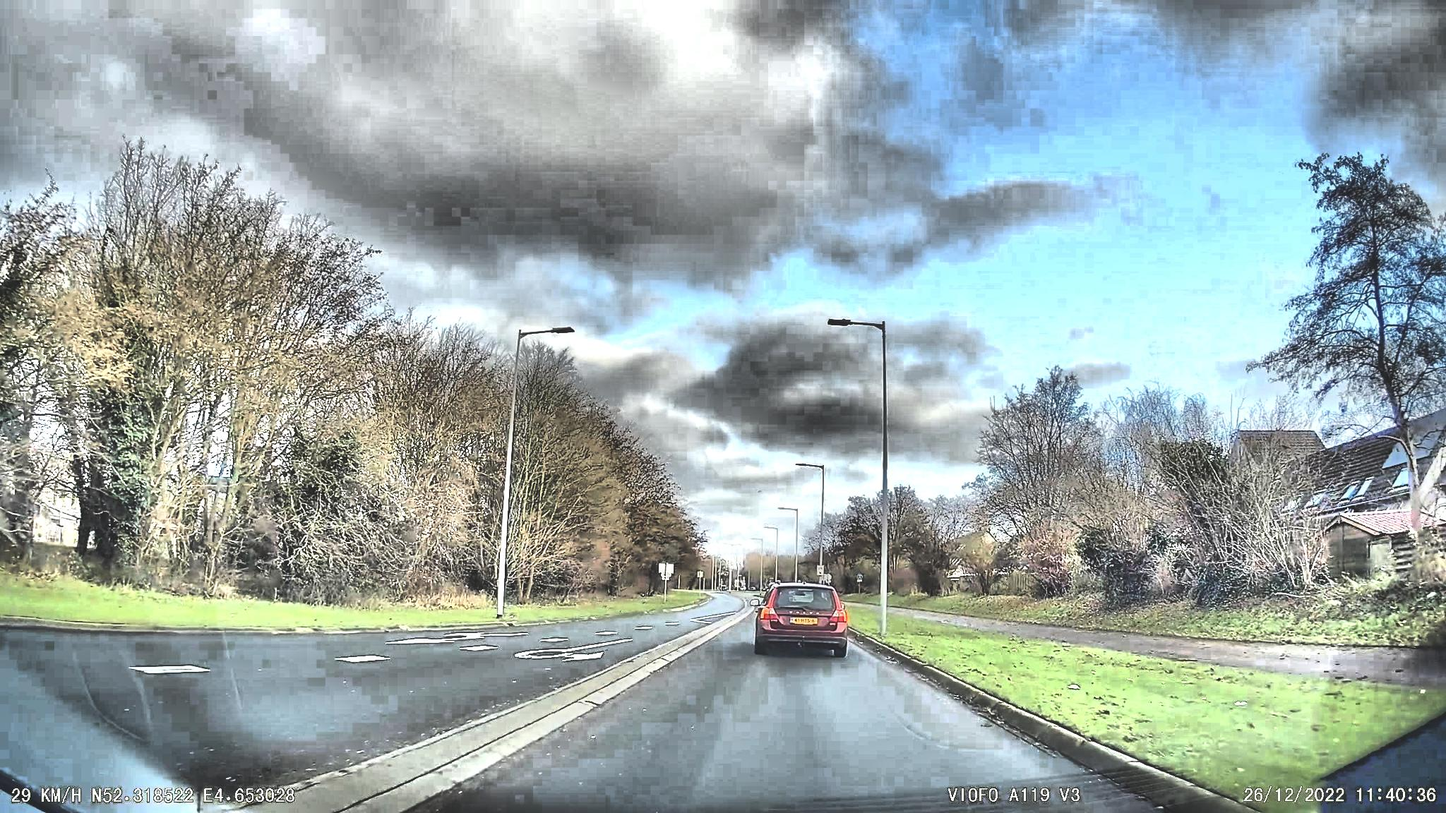Roads: (0, 606, 1257, 813)
